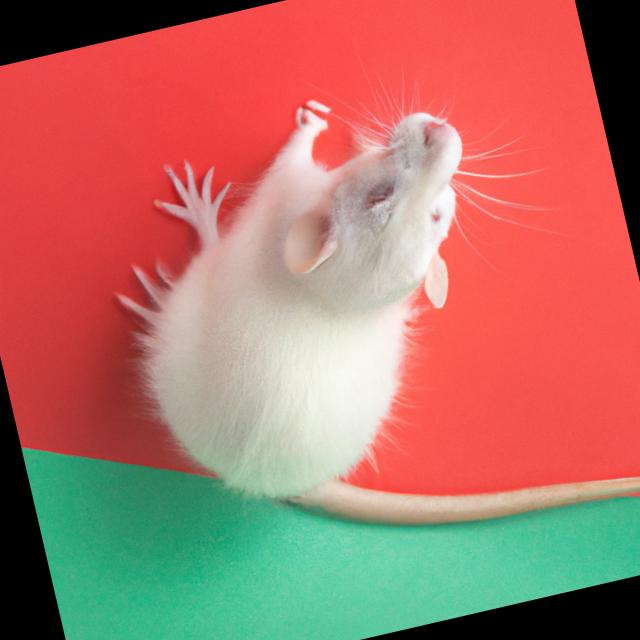rodent: (71, 52, 552, 550)
